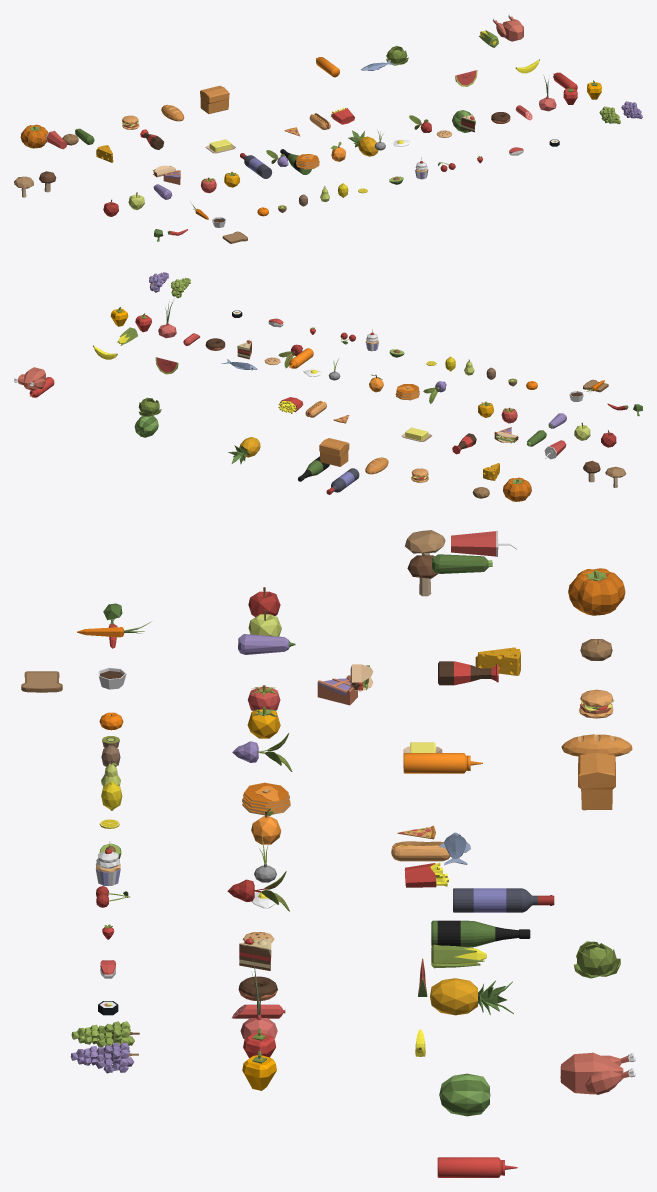
Rendered from itemsFood.glb.
3 views of the same model, one above another, from view 1: azimuth 30°, elevation 25°; view 2: azimuth 150°, elevation 25°; view 3: azimuth 270°, elevation 25° (orthographic). The views are drawn at different scales.
Parts seen in each view (by area): view 1: Bread_02, Pumpkin_02, Chicken_01, Pineapple_01, Wine_01; view 2: Bread_02, Pumpkin_02, Chicken_01, Pineapple_01, Wine_01, Watermelon_01, Cabbage_02, Pancakes_01; view 3: Chicken_01, Wine_01, Pumpkin_02, Pineapple_01, Bread_02, Champagne_01, Watermelon_01, Ketchup_01.001, Mustard_01, Cabbage_02, Grape_02, Pancakes_01 (+12 smaller).
Part boxes in pixels (x1,y1,x2,y2): Bread_02: (200, 85, 229, 113); Pumpkin_02: (20, 124, 48, 148); Chicken_01: (492, 14, 523, 41); Pineapple_01: (348, 130, 378, 156); Wine_01: (240, 153, 272, 178); Bread_02: (319, 438, 349, 466); Pumpkin_02: (503, 477, 531, 501); Chicken_01: (14, 367, 45, 390); Pineapple_01: (228, 437, 260, 464); Wine_01: (326, 468, 359, 494); Watermelon_01: (134, 415, 158, 437); Cabbage_02: (138, 397, 161, 416); Pancakes_01: (395, 384, 419, 400); Chicken_01: (560, 1052, 635, 1094); Wine_01: (453, 888, 554, 912); Pumpkin_02: (568, 568, 625, 615); Pineapple_01: (430, 978, 513, 1015); Bread_02: (578, 752, 615, 810); Champagne_01: (431, 920, 530, 947); Watermelon_01: (439, 1073, 490, 1116); Ketchup_01.001: (437, 1157, 517, 1177); Mustard_01: (403, 753, 482, 773); Cabbage_02: (574, 941, 620, 978); Grape_02: (70, 1042, 138, 1073); Pancakes_01: (242, 782, 290, 815).
Size of the model in its own units: 4.72 by 0.8782 by 2.22.
Materials: 1 (1 with a texture image).
